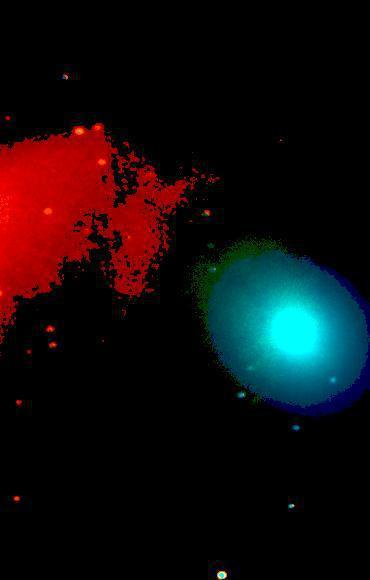star: (242, 324, 272, 354)
